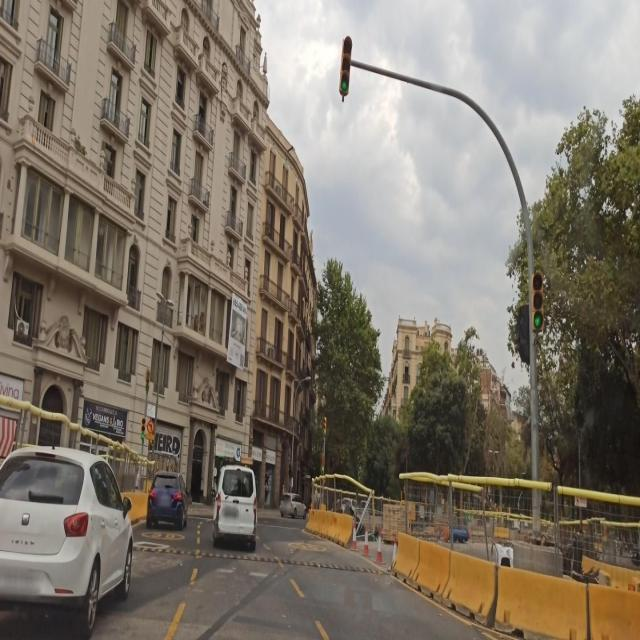car: (0, 442, 134, 640), (212, 462, 258, 550), (146, 471, 188, 531), (279, 492, 306, 519)
